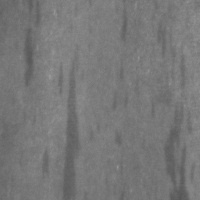inclusion: (167, 38, 192, 199), (56, 62, 83, 199), (18, 1, 44, 89), (148, 13, 172, 62), (116, 0, 132, 45), (109, 86, 131, 114), (37, 143, 52, 184), (112, 127, 128, 150), (116, 55, 129, 82)
